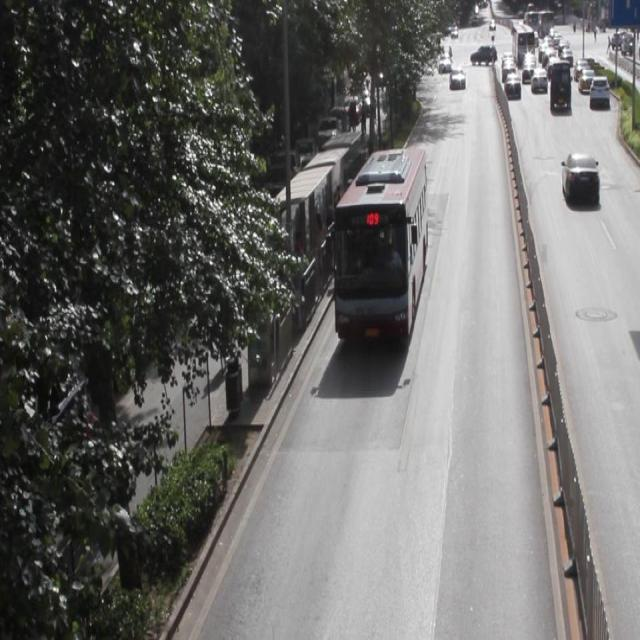car: (561, 151, 598, 205)
van: (335, 148, 425, 340)
